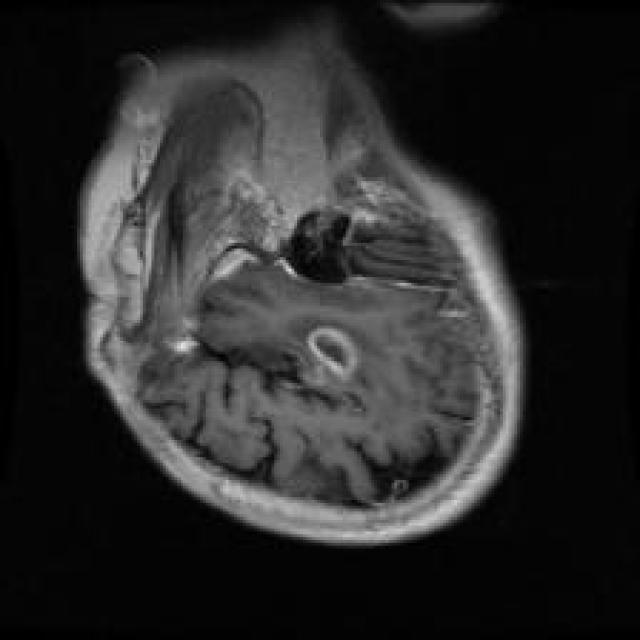glioma_tumor: (294, 308, 378, 393)
